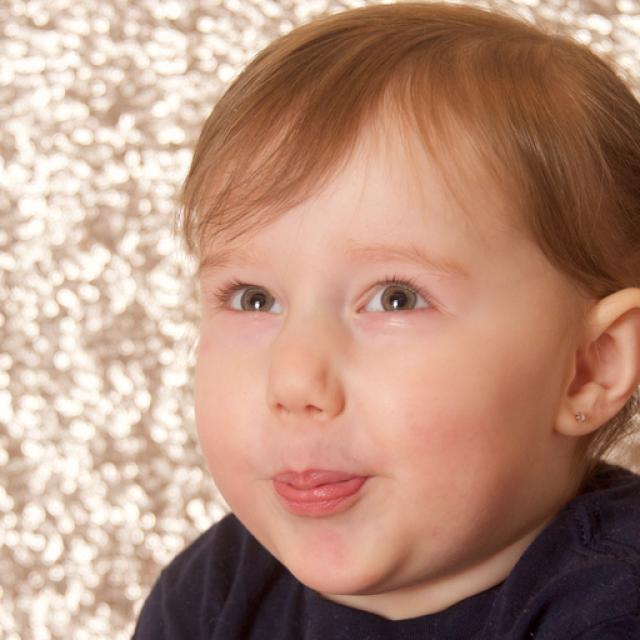happy: (183, 82, 562, 590)
